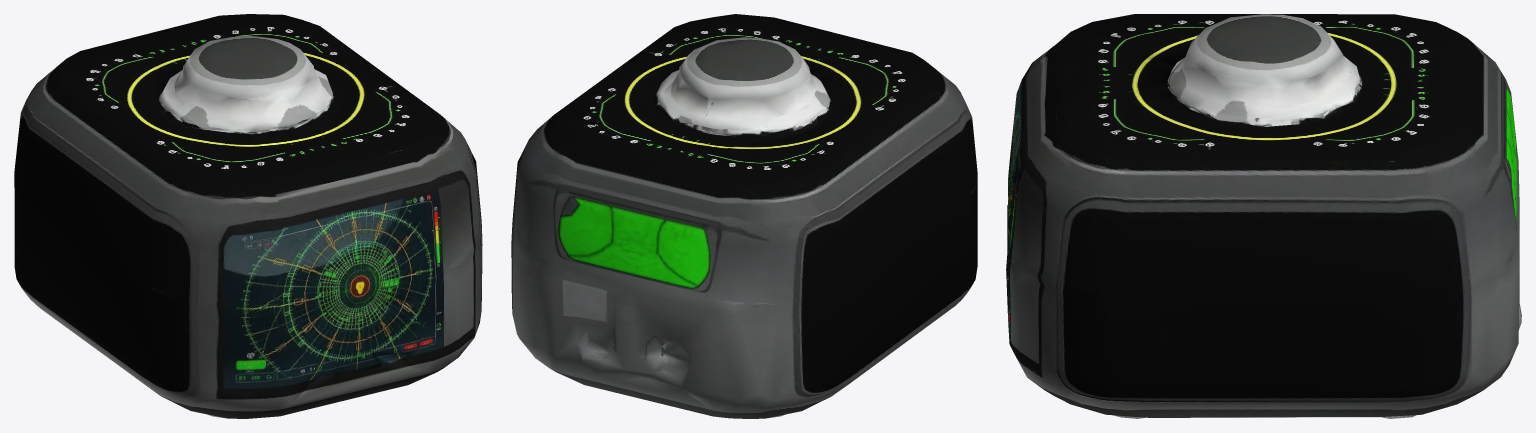
File: RoverRadar.glb
3 views of the same model, side by side, from view 1: azimuth 30°, elevation 25°; view 2: azimuth 150°, elevation 25°; view 3: azimuth 270°, elevation 25° (orthographic). The views are drawn at different scales.
Visible parts, largest first — view 1: Mesh_0; view 2: Mesh_0; view 3: Mesh_0.
Boxes of the visible parts, x1=… form: Mesh_0: x1=14, y1=14, x2=482, y2=418; Mesh_0: x1=511, y1=14, x2=977, y2=418; Mesh_0: x1=1006, y1=14, x2=1521, y2=418.
Bounding box in the file's own units: 1.6 × 1.36 × 1.92.
Materials: 1 (1 with a texture image).
